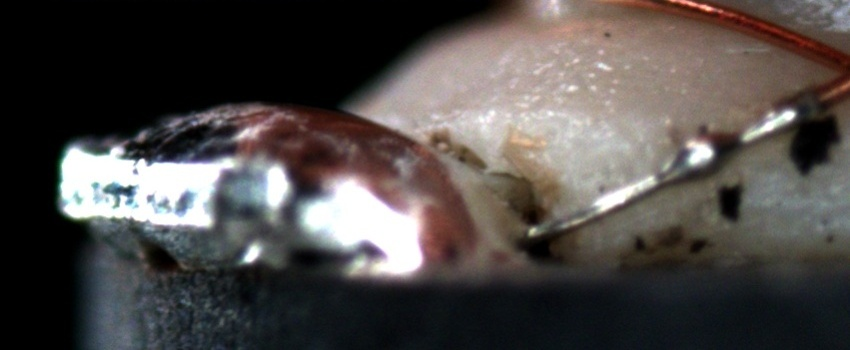TB: (671, 128, 747, 183)
TS: (525, 90, 822, 239)
TTCW: (527, 78, 849, 243)
